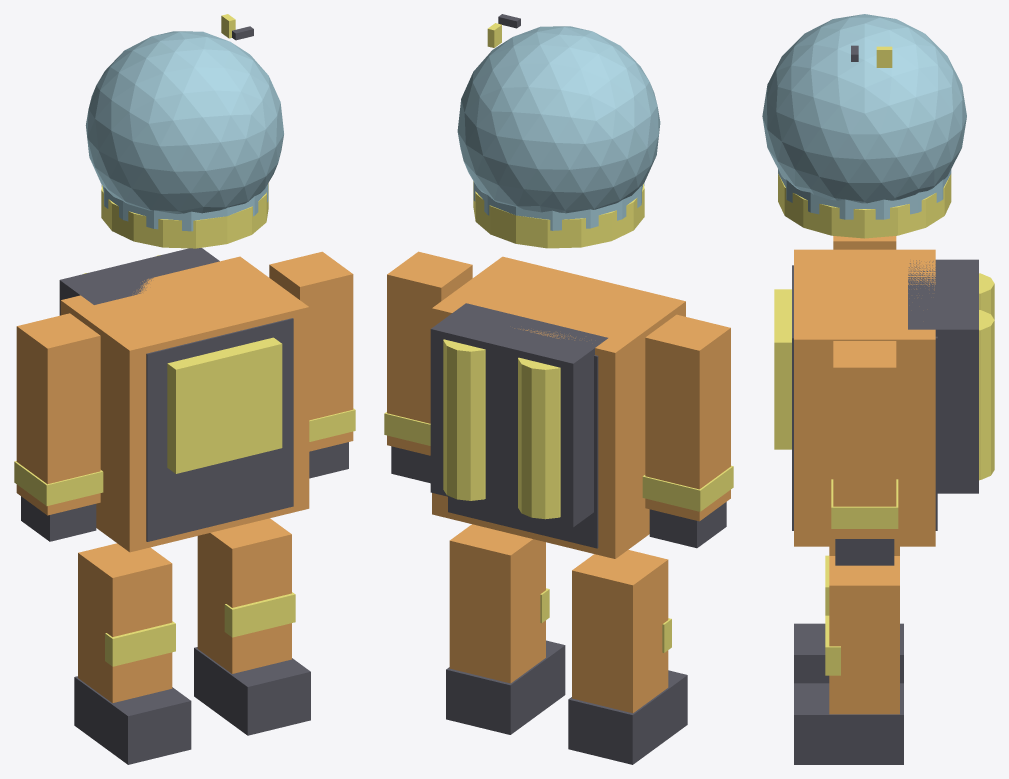
Rendered from astronaut-fishbowl.glb.
The picture shows the model from 3 angles, left to right: view 1: azimuth 30°, elevation 25°; view 2: azimuth 150°, elevation 25°; view 3: azimuth 270°, elevation 25°; orthographic projection. The views are drawn at different scales.
Parts seen in each view (by area): view 1: GlassFishbowl, SpacesuitTorso, HarnessStraps, Sleeve_L, LifeSupportChest, Pants_L, Pants_R, Sleeve_R, MoonBoot_L, MoonBoot_R, NeckRing, Backpack (+7 smaller); view 2: GlassFishbowl, SpacesuitTorso, Backpack, Sleeve_L, Pants_L, Pants_R, Sleeve_R, OxygenTank_R, OxygenTank_L, MoonBoot_L, MoonBoot_R, NeckRing (+6 smaller); view 3: GlassFishbowl, SpacesuitTorso, Backpack, Sleeve_R, Pants_R, MoonBoot_R, NeckRing, LifeSupportChest, OxygenTank_R, MoonBoot_L, WaterVolume, Cuff_R (+5 smaller).
Part boxes in pixels (box(x1,y1,x2,y2)): GlassFishbowl: box(85, 31, 283, 213); SpacesuitTorso: box(60, 256, 309, 552); HarnessStraps: box(146, 318, 293, 541); Sleeve_L: box(16, 313, 100, 515); LifeSupportChest: box(167, 337, 282, 473); Pants_L: box(78, 543, 172, 703); Pants_R: box(197, 518, 291, 673); Sleeve_R: box(269, 251, 353, 451); MoonBoot_L: box(74, 676, 191, 764); MoonBoot_R: box(194, 647, 310, 735); NeckRing: box(101, 183, 268, 248); Backpack: box(59, 248, 219, 315); GlassFishbowl: box(457, 26, 660, 213); SpacesuitTorso: box(432, 256, 685, 558); Backpack: box(430, 303, 607, 527); Sleeve_L: box(645, 314, 730, 521); Pants_L: box(572, 550, 668, 713); Pants_R: box(449, 524, 545, 683); Sleeve_R: box(387, 251, 472, 455); OxygenTank_R: box(443, 339, 485, 500); OxygenTank_L: box(518, 357, 560, 519); MoonBoot_L: box(568, 670, 687, 764); MoonBoot_R: box(446, 640, 565, 734); NeckRing: box(473, 181, 644, 248); GlassFishbowl: box(762, 14, 966, 203); SpacesuitTorso: box(794, 249, 935, 546); Backpack: box(908, 259, 978, 493); Sleeve_R: box(833, 341, 896, 538); Pants_R: box(829, 556, 899, 714); MoonBoot_R: box(794, 683, 903, 764); NeckRing: box(778, 173, 951, 238); LifeSupportChest: box(774, 289, 791, 449); OxygenTank_R: box(979, 310, 994, 480); MoonBoot_L: box(794, 623, 903, 683); WaterVolume: box(778, 169, 951, 219); Cuff_R: box(831, 479, 898, 528).
Bounding box in the file's own units: 0.93 × 1.96 × 0.59.
